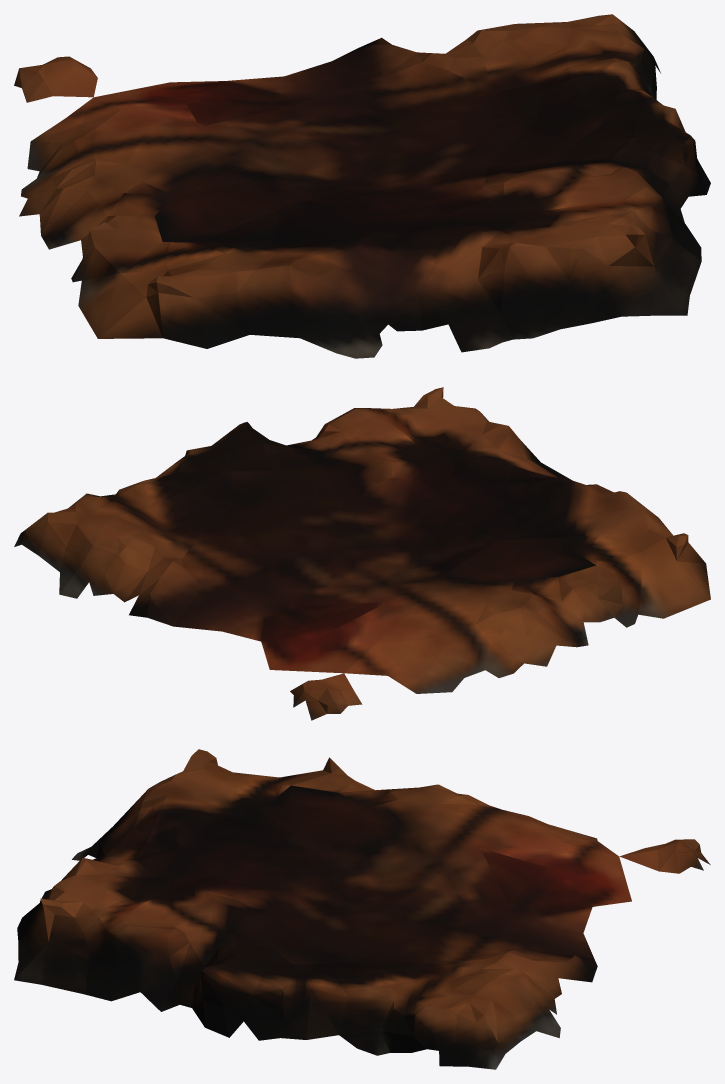
Rendered from salvage_raft_photogrammetry_scan.three-web-toon.lod50.glb.
The picture shows the model from 3 angles, top to bottom: view 1: azimuth 30°, elevation 25°; view 2: azimuth 150°, elevation 25°; view 3: azimuth 270°, elevation 25°; orthographic projection. The views are drawn at different scales.
Parts seen in each view (by area): view 1: texturedMesh_lod; view 2: texturedMesh_lod; view 3: texturedMesh_lod.
Boxes of the visible parts, x1,y1,x2,y2 form: texturedMesh_lod: (14, 14, 710, 358); texturedMesh_lod: (14, 387, 710, 720); texturedMesh_lod: (14, 749, 710, 1069).
Bounding box in the file's own units: 2.4 × 0.2567 × 2.39.
Materials: 1 (1 with a texture image).
